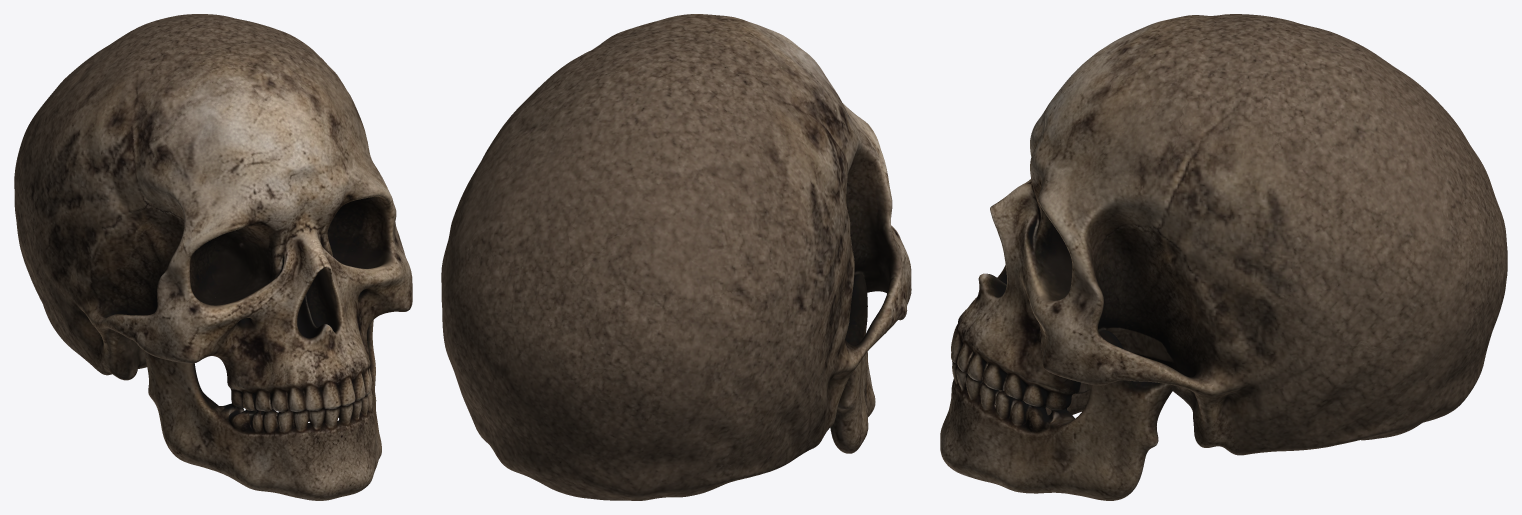
File: Meshy_AI_Ancient_Skull_1020030646_texture.fbx
3 views of the same model, side by side, from view 1: azimuth 30°, elevation 25°; view 2: azimuth 150°, elevation 25°; view 3: azimuth 270°, elevation 25° (orthographic). The views are drawn at different scales.
Visible parts, largest first — view 1: Mesh_0; view 2: Mesh_0; view 3: Mesh_0.
Part boxes in pixels (x1,y1,x2,y2): Mesh_0: [14, 14, 412, 500]; Mesh_0: [441, 14, 911, 500]; Mesh_0: [940, 14, 1507, 500].
Size of the model in its own units: 131 by 159 by 190.
Materials: 1 (1 with a texture image).
